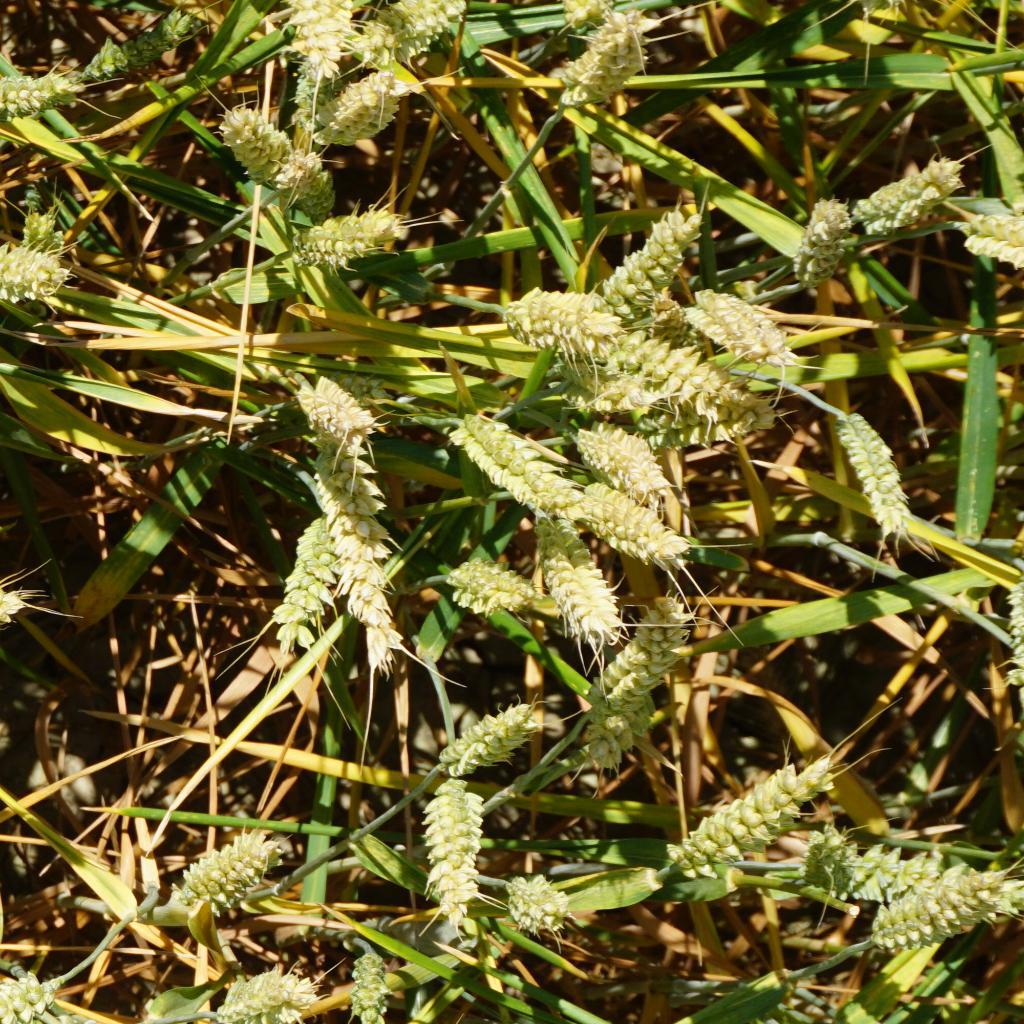0-0: (657, 749, 851, 878), (313, 450, 390, 636), (841, 841, 1017, 913), (530, 529, 620, 658), (423, 783, 496, 930), (453, 416, 568, 509), (835, 397, 913, 530), (873, 868, 994, 952), (592, 606, 703, 696), (571, 475, 678, 566), (597, 212, 687, 311), (570, 684, 664, 776), (487, 279, 607, 351), (257, 527, 325, 653), (308, 210, 418, 287), (617, 325, 724, 402), (571, 416, 675, 495), (178, 830, 273, 911), (841, 162, 959, 226), (658, 388, 774, 453), (61, 15, 190, 73), (565, 18, 641, 115), (692, 280, 783, 361), (445, 694, 542, 769), (538, 354, 644, 417), (213, 961, 317, 1024), (311, 77, 400, 150), (363, 0, 464, 64), (441, 543, 536, 610), (498, 868, 578, 937), (795, 193, 857, 281), (215, 102, 290, 172), (289, 375, 372, 437), (953, 201, 1024, 265), (290, 0, 346, 74), (0, 64, 72, 121), (282, 54, 326, 145), (0, 963, 64, 1024), (803, 821, 855, 896), (0, 246, 69, 302), (342, 945, 390, 1024), (17, 208, 68, 254), (279, 153, 333, 195), (557, 0, 622, 30)
